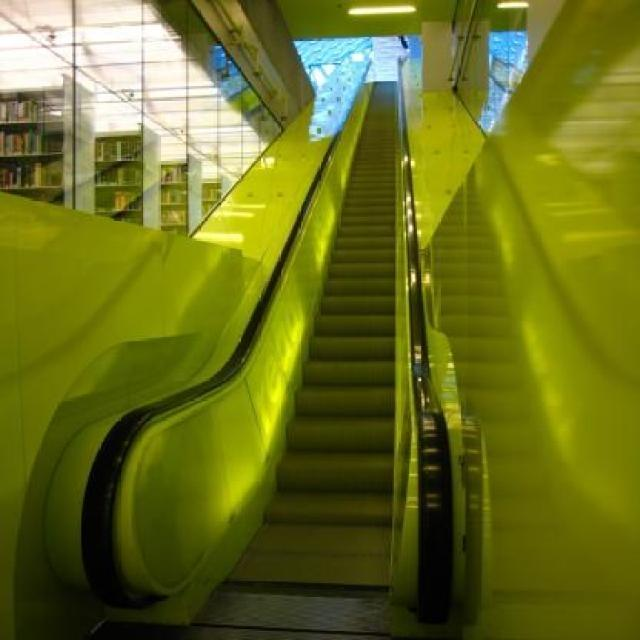stair: (217, 79, 400, 586)
